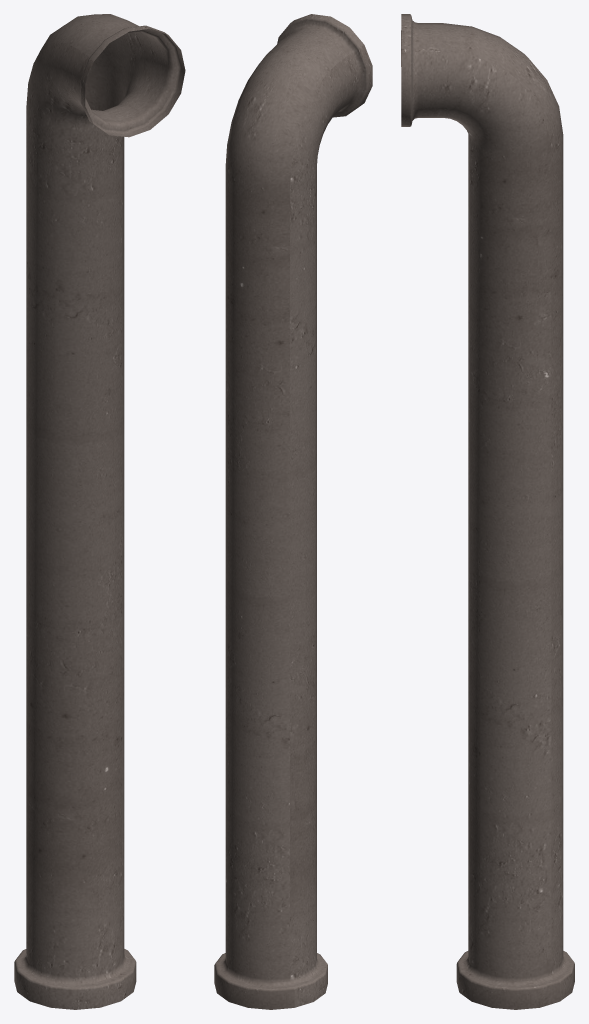
File: Pipe_01.FBX
3 views of the same model, side by side, from view 1: azimuth 30°, elevation 25°; view 2: azimuth 150°, elevation 25°; view 3: azimuth 270°, elevation 25° (orthographic). The views are drawn at different scales.
Parts seen in each view (by area): view 1: Pipe_01; view 2: Pipe_01; view 3: Pipe_01.
Part boxes in pixels (x1,y1,x2,y2): Pipe_01: (14,14,185,1009); Pipe_01: (214,14,372,1009); Pipe_01: (401,14,574,1009).
Bounding box in the file's own units: 5.06 × 45.94 × 7.49.
